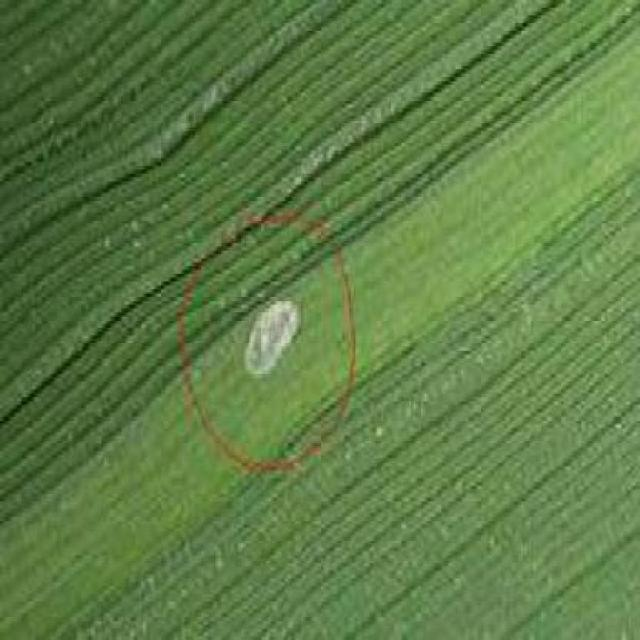leaf-folder: (226, 291, 309, 384)
